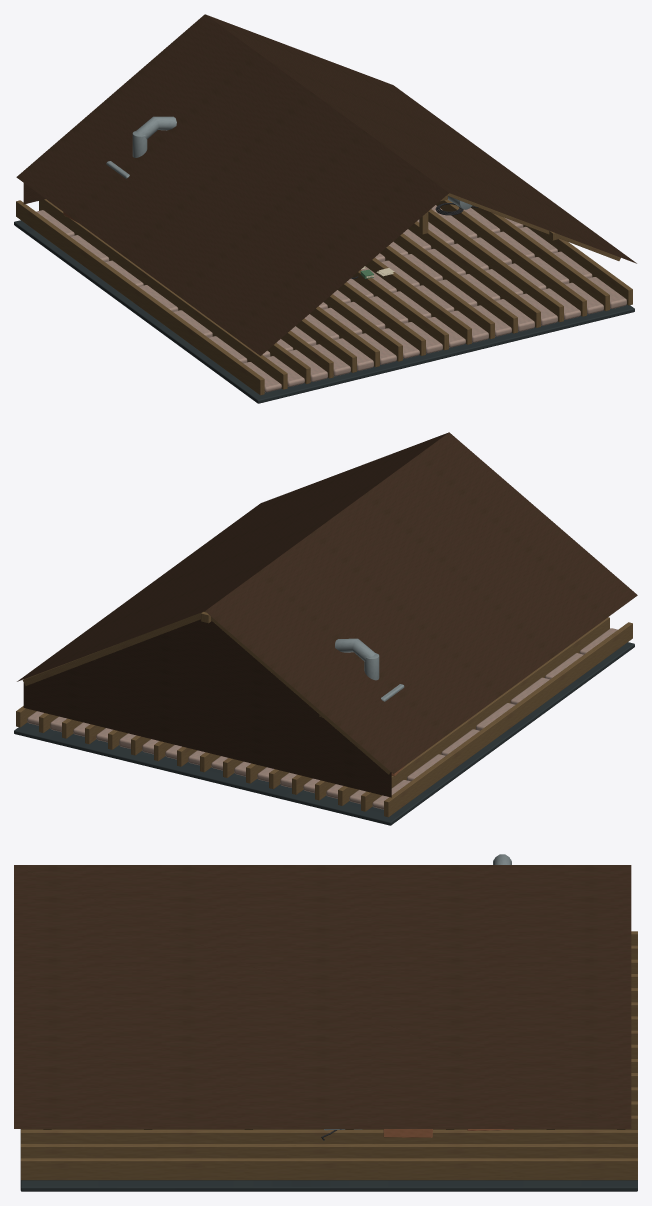
Rendered from attic.glb.
The picture shows the model from 3 angles, top to bottom: view 1: azimuth 30°, elevation 25°; view 2: azimuth 150°, elevation 25°; view 3: azimuth 270°, elevation 25°; orthographic projection. The views are drawn at different scales.
Parts seen in each view (by area): view 1: Pitched unfinished roof, Pitched unfinished roof.001, Dark unfinished floor cavity, Exposed rough floor joist, Exposed rough floor joist.001, Exposed rough floor joist.014, Exposed rough floor joist.013, Exposed rough floor joist.015, Exposed rough floor joist.012, Exposed rough floor joist.011, Exposed rough floor joist.010, Exposed rough floor joist.009 (+10 smaller); view 2: Pitched unfinished roof, Unfinished gable sheathing, Pitched unfinished roof.001, Dark unfinished floor cavity, Exposed rough floor joist, Exposed rough floor joist.001, Exposed roof rafter.013, Exposed roof rafter.006; view 3: Pitched unfinished roof.001, Exposed rough floor joist.016, Exposed rough floor joist.015, Exposed rough floor joist.014, Dark unfinished floor cavity, Exposed rough floor joist.013.
Part boxes in pixels (bbox=[...]): Pitched unfinished roof: bbox=[16, 14, 448, 355]; Pitched unfinished roof.001: bbox=[205, 14, 636, 263]; Dark unfinished floor cavity: bbox=[14, 220, 634, 403]; Exposed rough floor joist: bbox=[16, 200, 264, 395]; Exposed rough floor joist.001: bbox=[39, 199, 287, 389]; Exposed rough floor joist.014: bbox=[436, 199, 586, 316]; Exposed rough floor joist.013: bbox=[428, 209, 563, 322]; Exposed rough floor joist.015: bbox=[471, 205, 609, 310]; Exposed rough floor joist.012: bbox=[408, 221, 540, 327]; Exposed rough floor joist.011: bbox=[393, 233, 517, 333]; Exposed rough floor joist.010: bbox=[380, 245, 494, 339]; Exposed rough floor joist.009: bbox=[365, 257, 471, 344]; Pitched unfinished roof: bbox=[205, 432, 637, 773]; Unfinished gable sheathing: bbox=[23, 619, 391, 797]; Pitched unfinished roof.001: bbox=[17, 432, 448, 681]; Dark unfinished floor cavity: bbox=[14, 642, 634, 825]; Exposed rough floor joist: bbox=[384, 622, 632, 817]; Exposed rough floor joist.001: bbox=[361, 617, 609, 811]; Exposed roof rafter.013: bbox=[22, 611, 205, 685]; Exposed roof rafter.006: bbox=[211, 617, 390, 774]; Pitched unfinished roof.001: bbox=[14, 865, 631, 1128]; Exposed rough floor joist.016: bbox=[20, 1158, 637, 1180]; Exposed rough floor joist.015: bbox=[20, 1144, 637, 1158]; Exposed rough floor joist.014: bbox=[20, 1130, 637, 1143]; Dark unfinished floor cavity: bbox=[20, 1180, 637, 1191]; Exposed rough floor joist.013: bbox=[20, 1115, 637, 1129].
Size of the model in its own units: 8.2 by 3.47 by 9.3.
25 materials, 24 textured.
